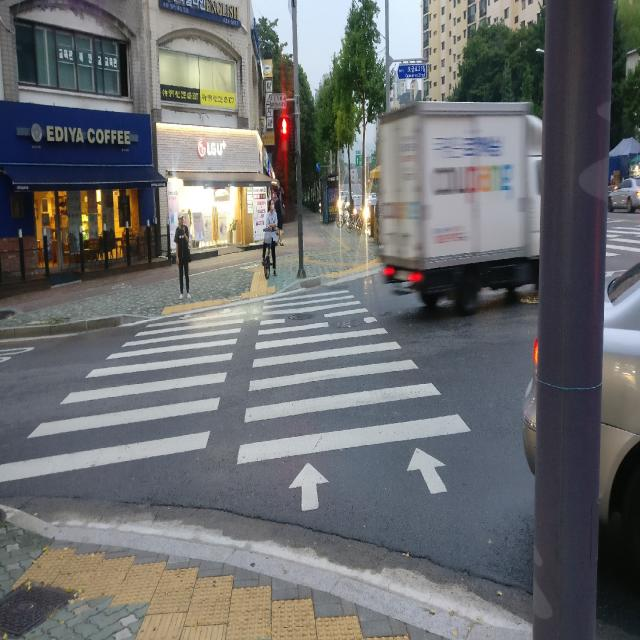빨간불: (280, 118, 291, 154)
횡단보도: (0, 289, 472, 512)
